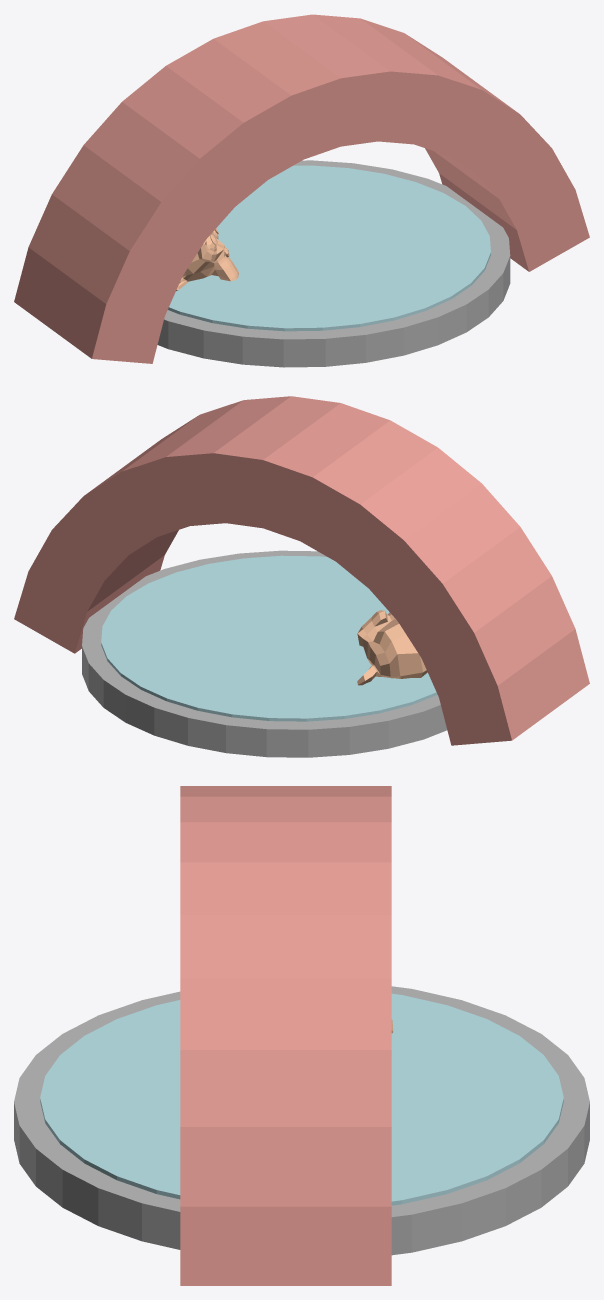
Rendered from 成功湖.fbx.
3 renders of one model, top to bottom at view 1: azimuth 30°, elevation 25°; view 2: azimuth 150°, elevation 25°; view 3: azimuth 270°, elevation 25°, orthographic. The views are drawn at different scales.
Visible parts, largest first — view 1: 圓柱體.002, 圓柱體.001, 圓柱體, 蘇珊猴; view 2: 圓柱體.002, 圓柱體.001, 圓柱體, 蘇珊猴; view 3: 圓柱體.002, 圓柱體.001, 圓柱體.
Boxes of the visible parts, x1,y1,x2,y2 form: 圓柱體.002: (14, 14, 589, 363); 圓柱體.001: (168, 165, 490, 331); 圓柱體: (157, 160, 510, 367); 蘇珊猴: (176, 228, 238, 290); 圓柱體.002: (14, 396, 589, 745); 圓柱體.001: (101, 555, 437, 721); 圓柱體: (82, 550, 447, 757); 蘇珊猴: (357, 610, 427, 685); 圓柱體.002: (180, 786, 391, 1285); 圓柱體.001: (40, 993, 563, 1205); 圓柱體: (14, 986, 589, 1255).
Size of the model in its own units: 3720 by 1711 by 2744.
